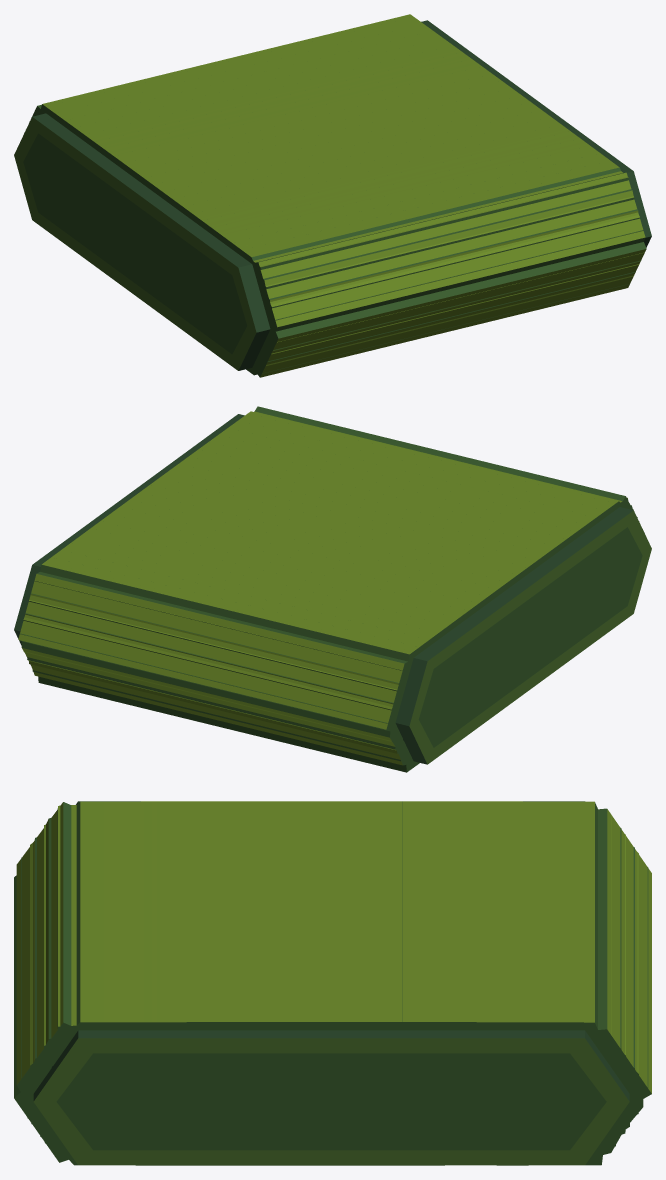
The model's file is movingBelt.fbx.
The picture shows the model from 3 angles, top to bottom: view 1: azimuth 30°, elevation 25°; view 2: azimuth 150°, elevation 25°; view 3: azimuth 270°, elevation 25°; orthographic projection. The views are drawn at different scales.
Visible parts, largest first — view 1: Mesh_MovingBeltFrame01, Mesh_MovingBeltFrame02, Mesh_MovingBeltBase, Mesh_MovingBeltFrame05, Mesh_MovingBeltFrame03, Mesh_MovingBeltFrame04; view 2: Mesh_MovingBeltFrame02, Mesh_MovingBeltFrame01, Mesh_MovingBeltBase, Mesh_MovingBeltFrame05, Mesh_MovingBeltFrame03, Mesh_MovingBeltFrame04; view 3: Mesh_MovingBeltBase, Mesh_MovingBeltFrame02, Mesh_MovingBeltFrame01, Mesh_MovingBeltFrame05, Mesh_MovingBeltFrame03, Mesh_MovingBeltFrame04.
Boxes of the visible parts, x1=… form: Mesh_MovingBeltFrame01: x1=24, y1=28, x2=645, y2=366; Mesh_MovingBeltFrame02: x1=31, y1=21, x2=646, y2=377; Mesh_MovingBeltBase: x1=14, y1=20, x2=651, y2=370; Mesh_MovingBeltFrame05: x1=29, y1=35, x2=643, y2=362; Mesh_MovingBeltFrame03: x1=31, y1=14, x2=643, y2=375; Mesh_MovingBeltFrame04: x1=43, y1=42, x2=639, y2=373; Mesh_MovingBeltFrame02: x1=18, y1=425, x2=639, y2=755; Mesh_MovingBeltFrame01: x1=21, y1=406, x2=644, y2=763; Mesh_MovingBeltBase: x1=14, y1=414, x2=651, y2=764; Mesh_MovingBeltFrame05: x1=20, y1=411, x2=632, y2=765; Mesh_MovingBeltFrame03: x1=23, y1=432, x2=633, y2=761; Mesh_MovingBeltFrame04: x1=25, y1=411, x2=637, y2=772; Mesh_MovingBeltBase: x1=33, y1=801, x2=629, y2=1165; Mesh_MovingBeltFrame02: x1=14, y1=801, x2=651, y2=1165; Mesh_MovingBeltFrame01: x1=16, y1=801, x2=643, y2=1165; Mesh_MovingBeltFrame05: x1=18, y1=801, x2=648, y2=1165; Mesh_MovingBeltFrame03: x1=21, y1=801, x2=638, y2=1165; Mesh_MovingBeltFrame04: x1=31, y1=801, x2=634, y2=1165.
Size of the model in its own units: 2 by 2.27 by 0.5657.
